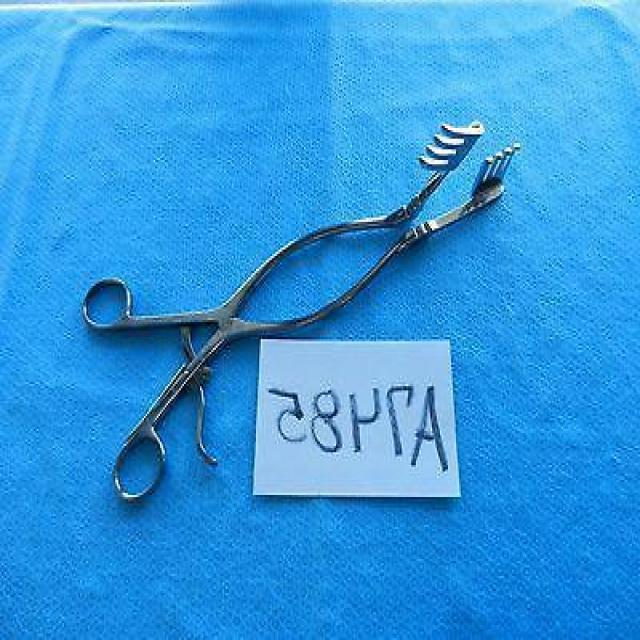Weitlaner: (79, 110, 518, 518)
